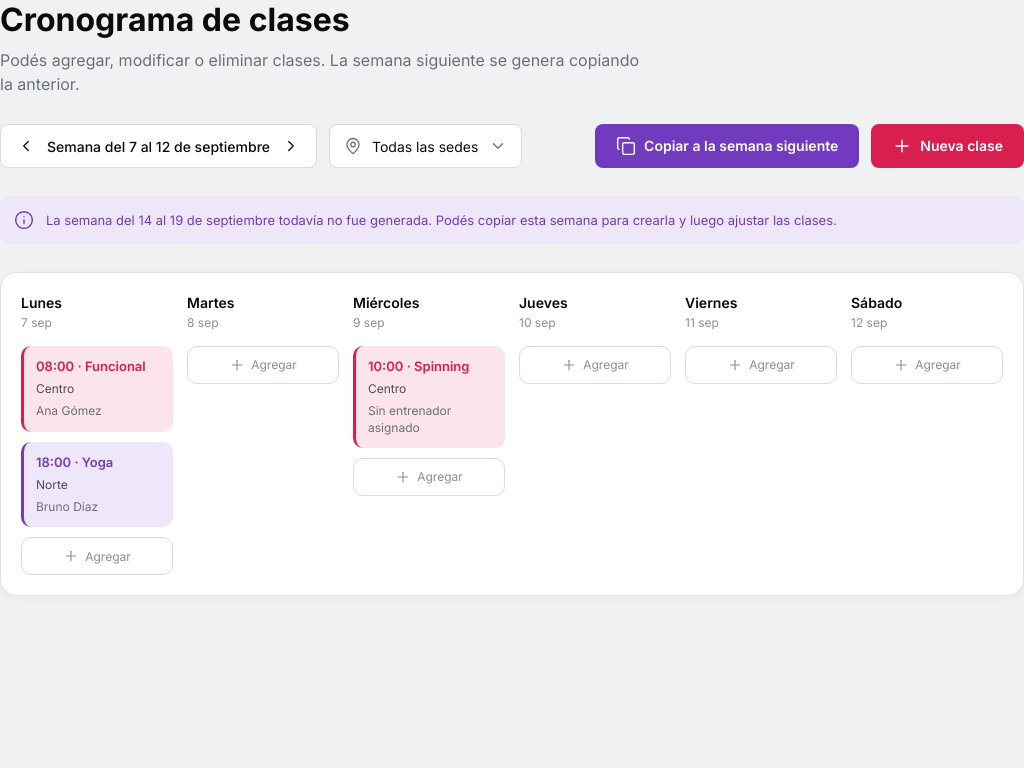
Test: cronograma semanal › el administrador crea una clase y refresca el cronograma
Expected: the text "08:00 · Funcional" is shown, x1=36 y1=358 x2=146 y2=375
Step 1. Click the button with aria-label "Agregar clase el Martes 8 sep" → (263, 365), box x1=187 y1=346 x2=339 y2=384
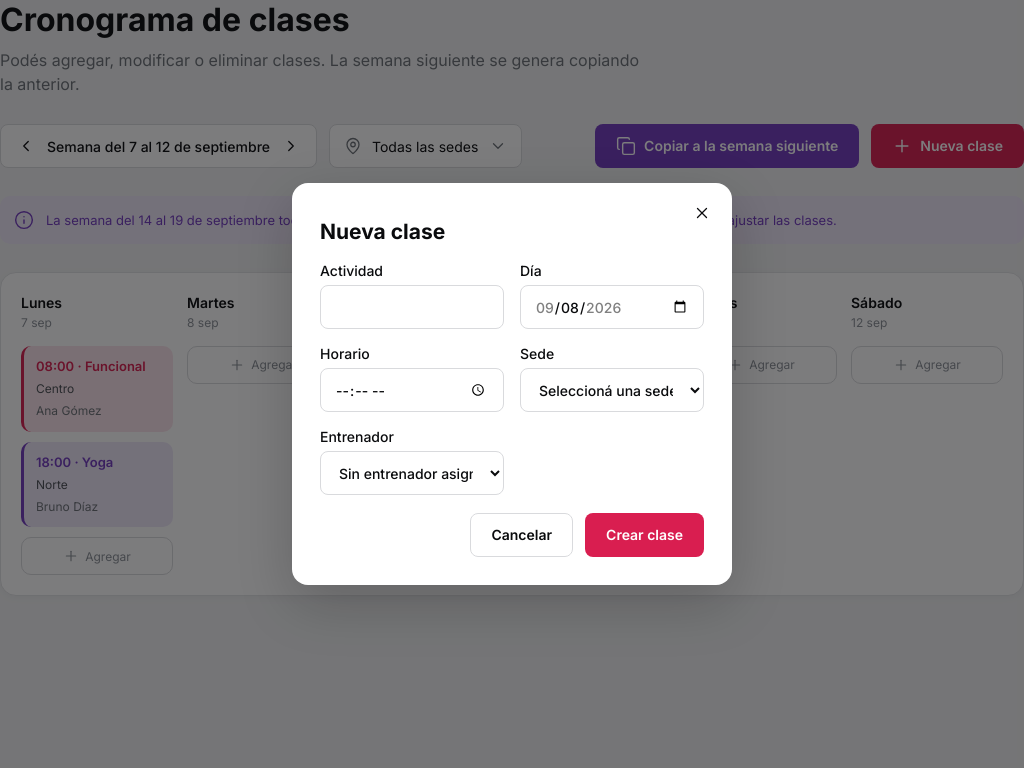
Step 2. Type " Pilates " into the field labelled "Actividad" → (412, 307), box x1=320 y1=285 x2=504 y2=329
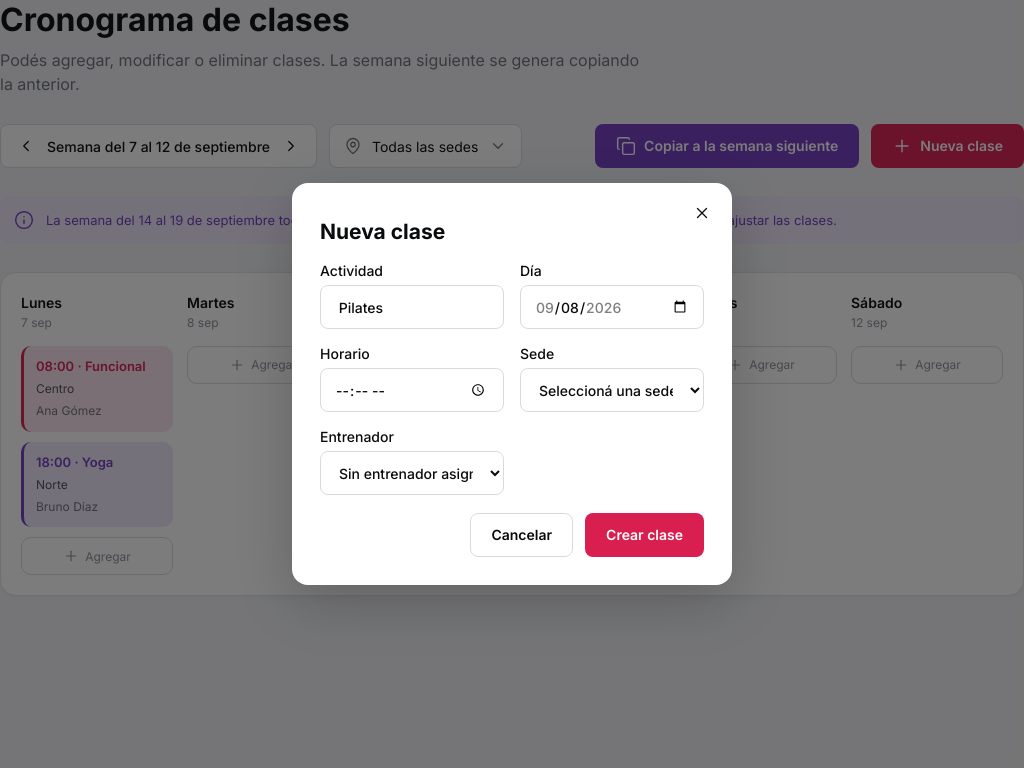
Step 3. Type "09:30" into the time field labelled "Horario" → (412, 390), box x1=320 y1=368 x2=504 y2=412
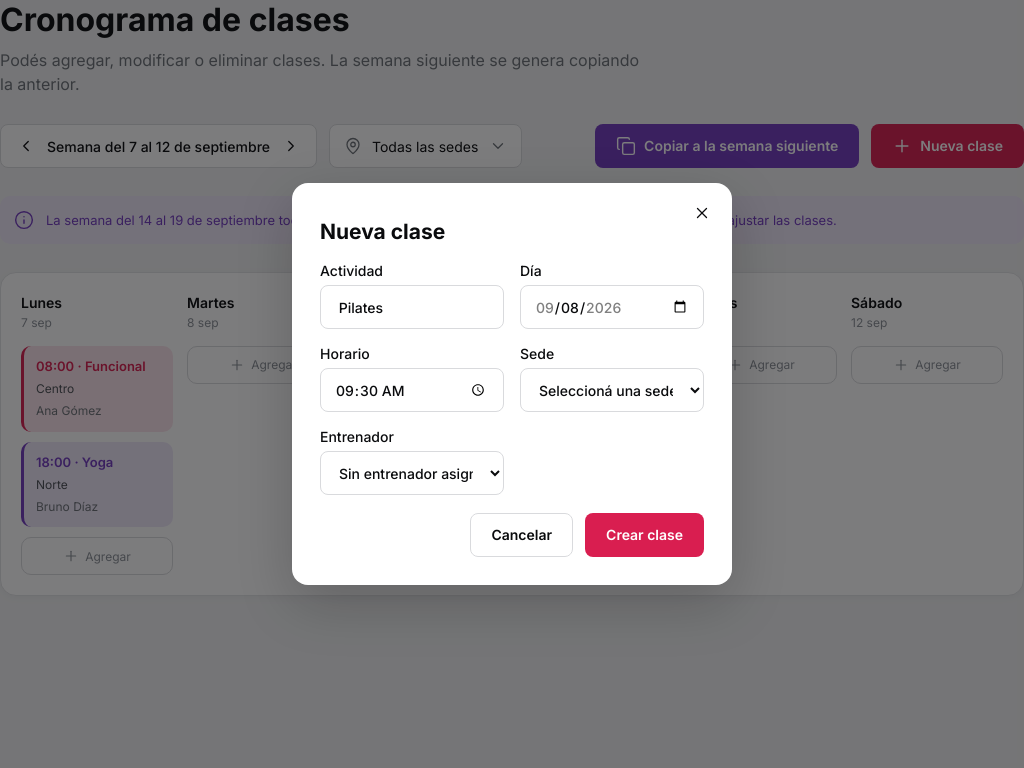
Step 4. Select "Norte" in the dropdown labelled "Sede" → (612, 390), box x1=520 y1=368 x2=704 y2=412
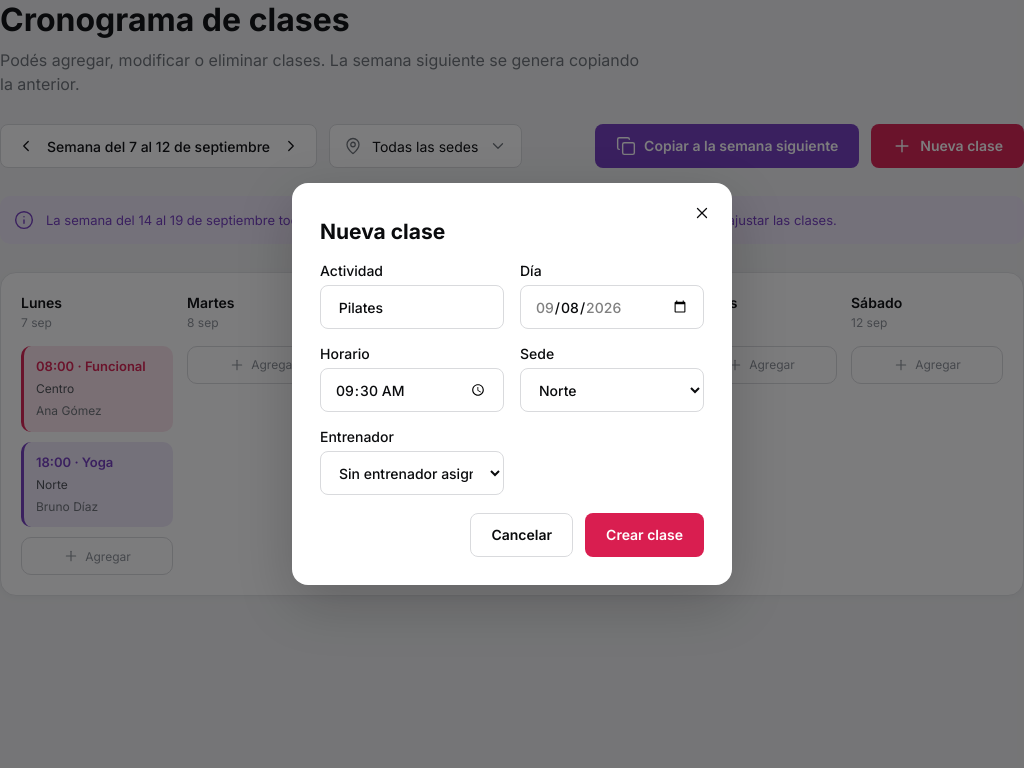
Step 5. Select "Ana Gómez" in the dropdown labelled "Entrenador" → (412, 473), box x1=320 y1=451 x2=504 y2=495
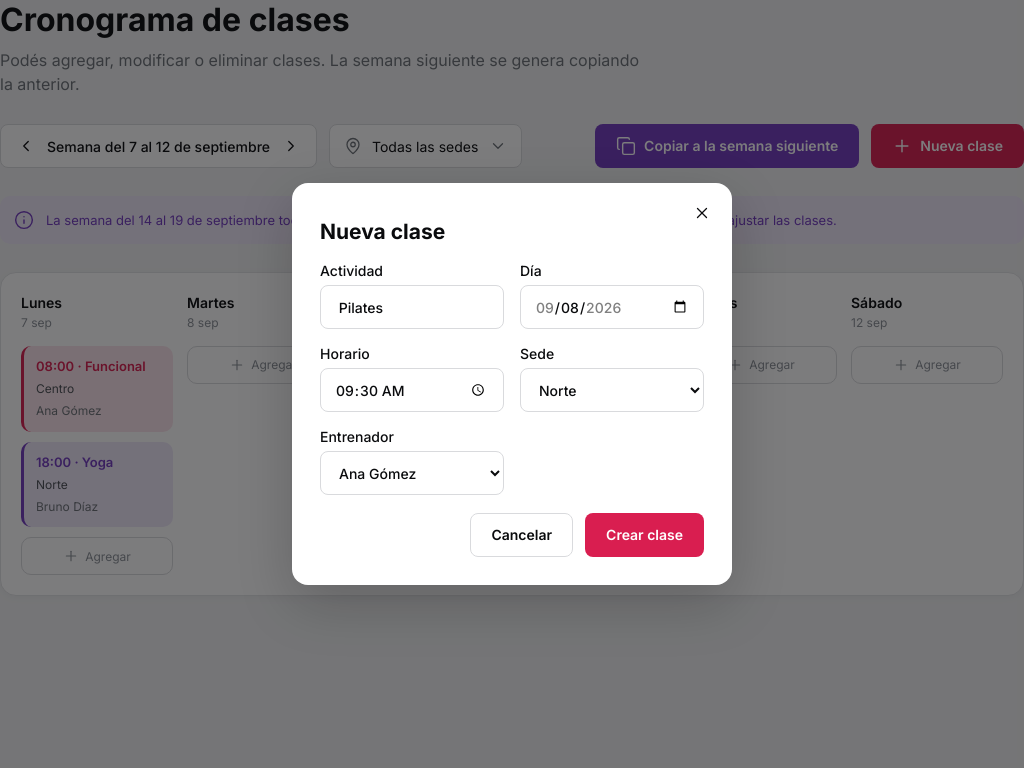
Step 6. Click the button "Crear clase" → (645, 535), box x1=585 y1=513 x2=704 y2=557
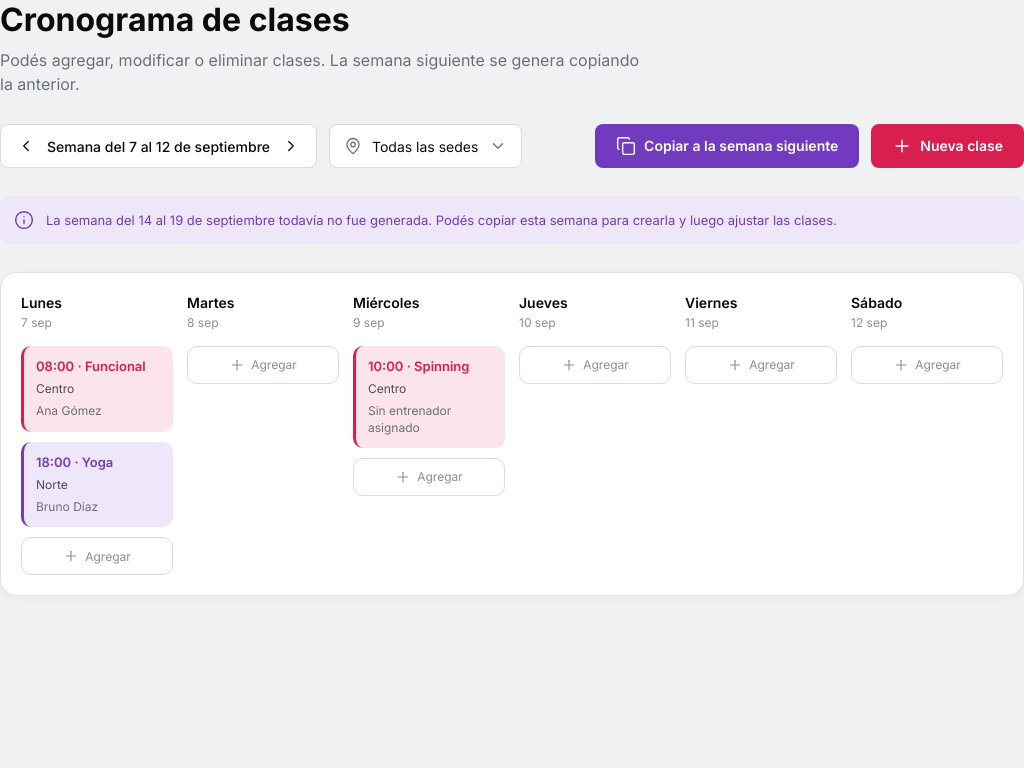
Expected: the dialog is gone
